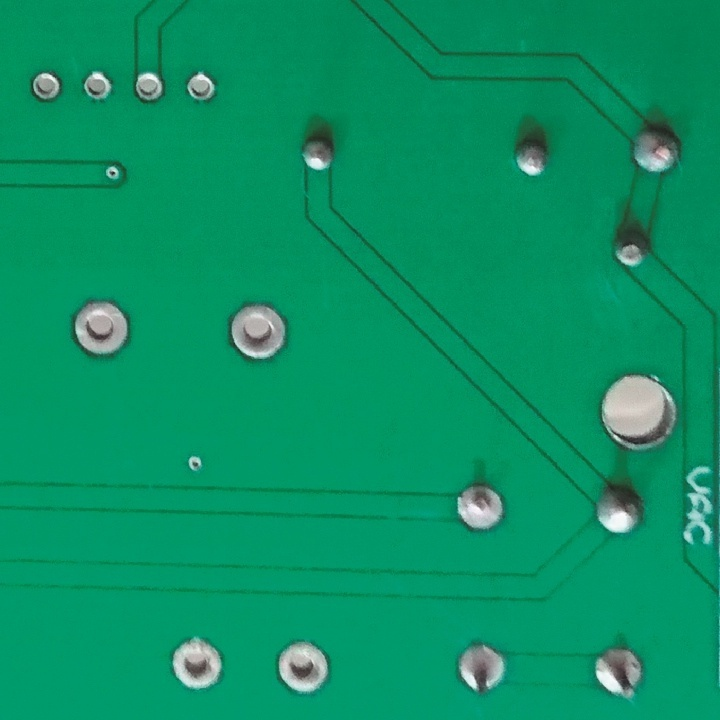F: (222, 297, 292, 365), (71, 293, 135, 363), (163, 631, 229, 695), (588, 643, 651, 707), (272, 635, 333, 697), (451, 638, 511, 701), (452, 479, 508, 534), (24, 66, 67, 105), (179, 66, 221, 105), (129, 69, 171, 105), (80, 67, 115, 108)
